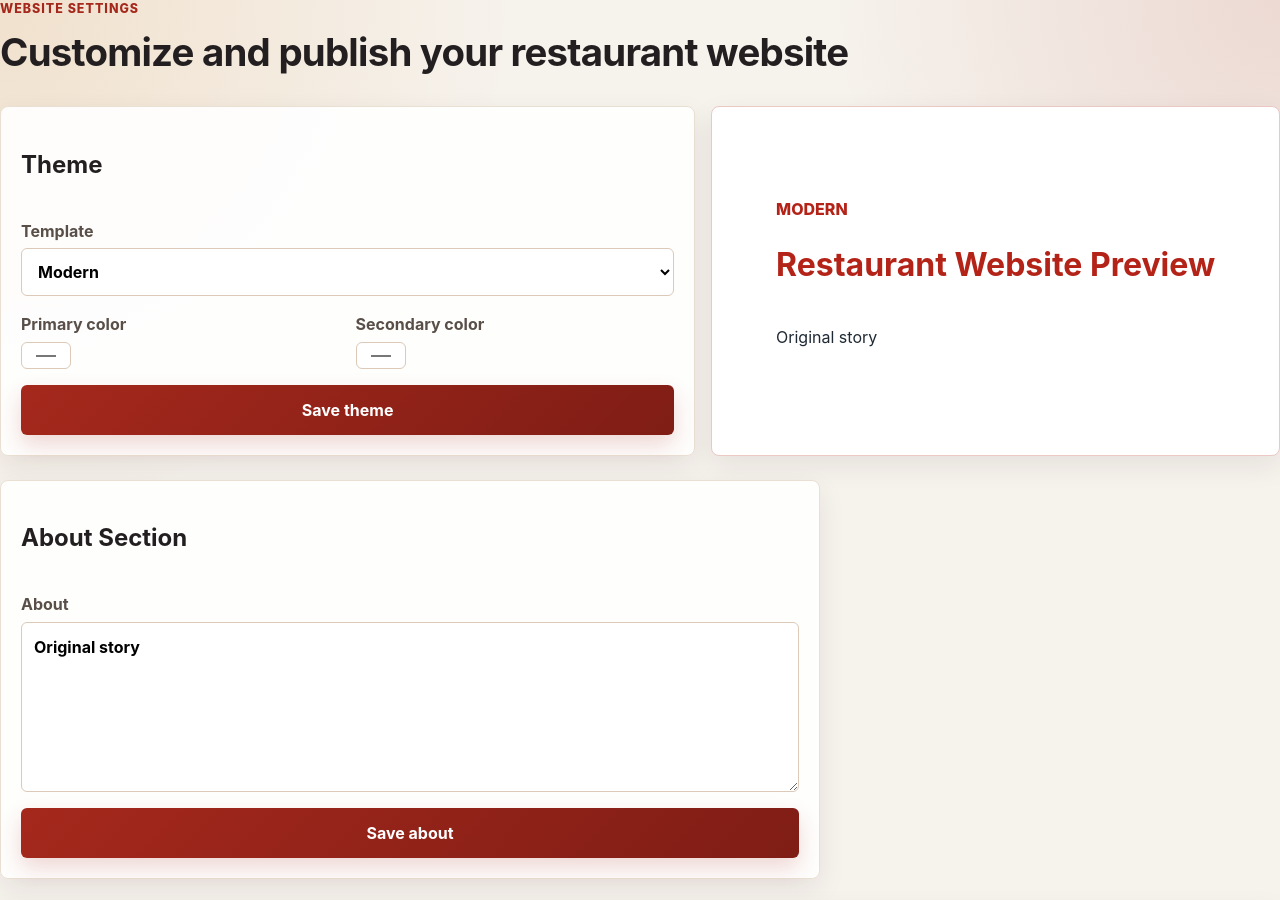
Scenario: WebsiteSettingsPage › updates about content and publishes the website
Replace the text in the text box labelled "About" with "Updated story" at [410, 707], box [21,622,799,792]
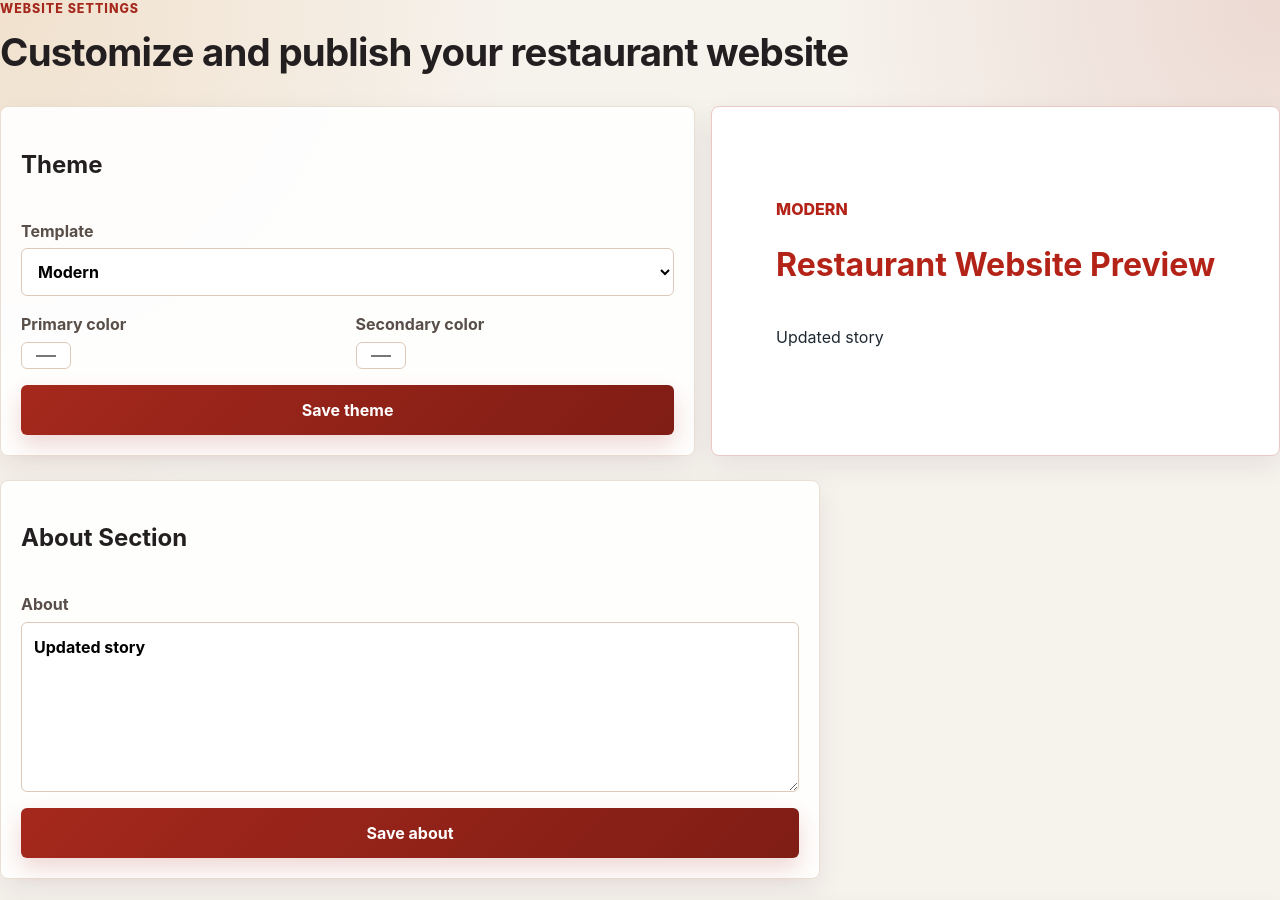
Click the button "Save about" at [410, 833], box [21,808,799,858]
(page scrolled)
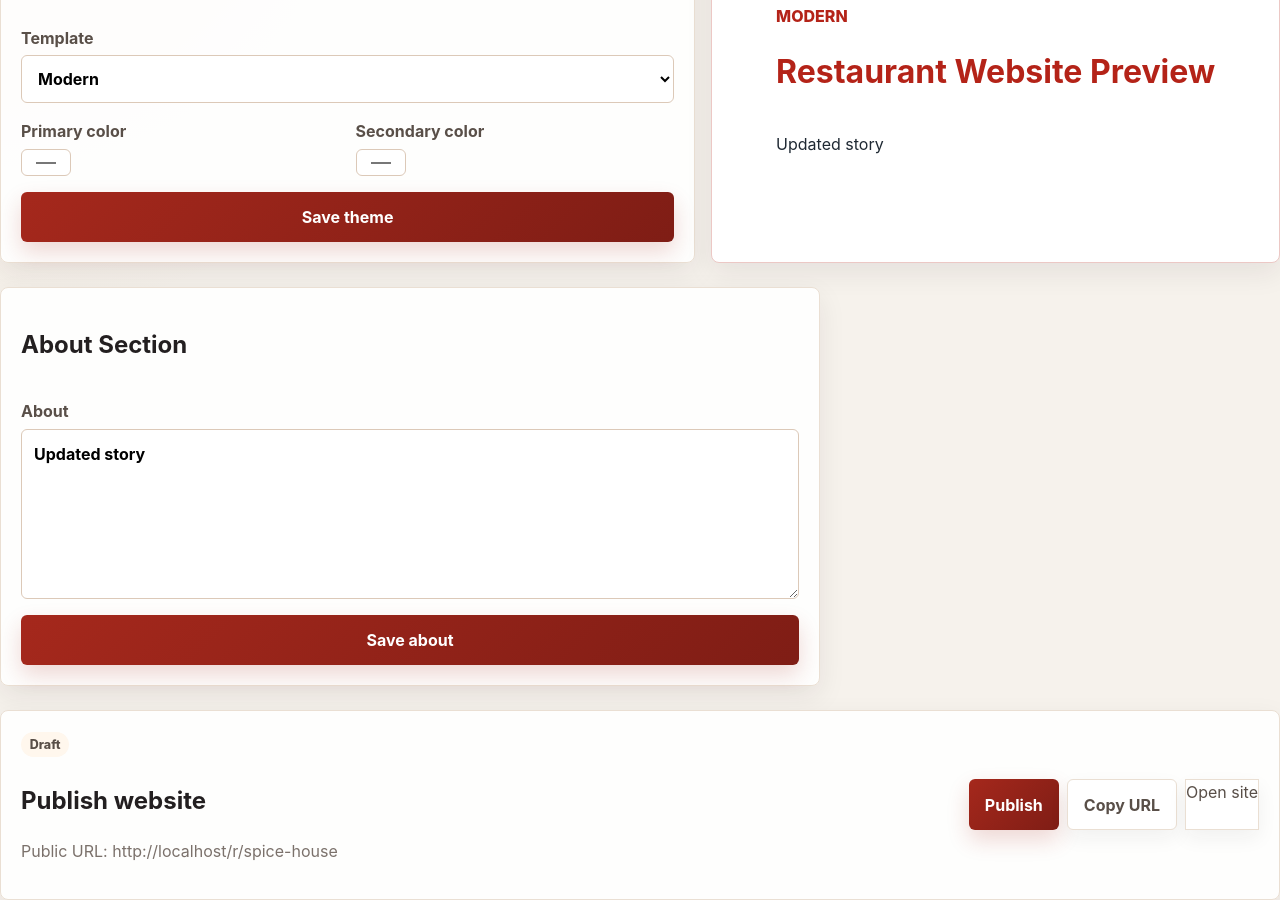
Click the button "Publish" at [1014, 805], box [969,779,1059,830]
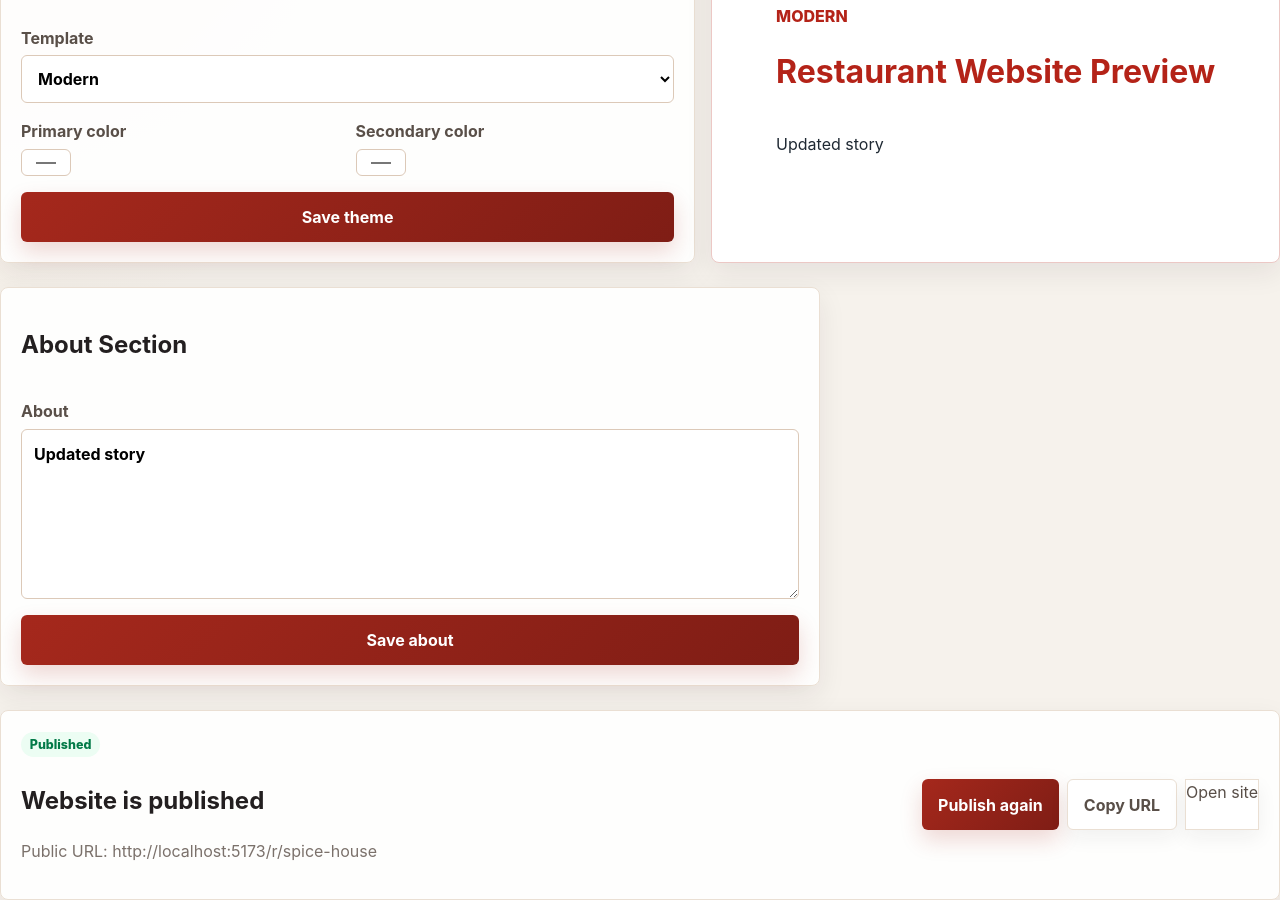
Now the text "Public URL: http://localhost:5173/r/spice-house" is shown, box [21,839,377,863]
